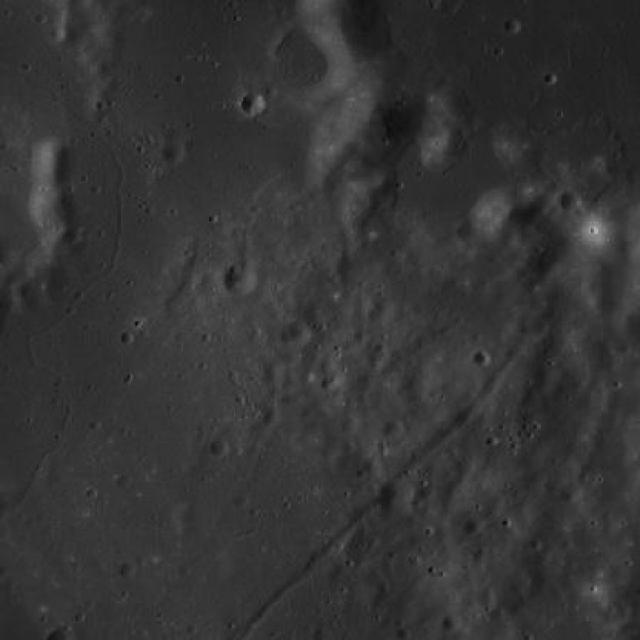crater: (273, 23, 353, 100), (534, 207, 606, 275), (0, 204, 57, 270), (448, 125, 504, 178), (544, 280, 596, 329), (376, 480, 416, 518), (222, 264, 255, 296), (401, 368, 432, 398), (598, 294, 628, 323), (614, 232, 640, 260), (300, 298, 328, 324), (258, 360, 284, 386), (284, 320, 310, 345), (20, 278, 46, 302), (240, 93, 265, 116), (596, 516, 621, 539), (160, 142, 186, 164), (456, 220, 482, 242), (558, 482, 582, 504), (475, 586, 497, 608), (383, 419, 403, 439), (463, 516, 483, 536), (249, 420, 269, 440), (279, 346, 299, 366), (209, 438, 229, 457), (442, 612, 462, 631), (558, 192, 578, 210), (316, 357, 336, 375), (530, 318, 548, 337), (340, 416, 360, 433), (375, 298, 393, 316), (118, 560, 136, 578), (318, 374, 336, 392), (416, 482, 434, 500), (473, 350, 490, 368), (260, 406, 278, 423), (542, 476, 560, 493), (310, 626, 330, 640), (280, 376, 297, 392), (49, 24, 65, 40), (528, 294, 544, 310), (503, 20, 520, 34)
